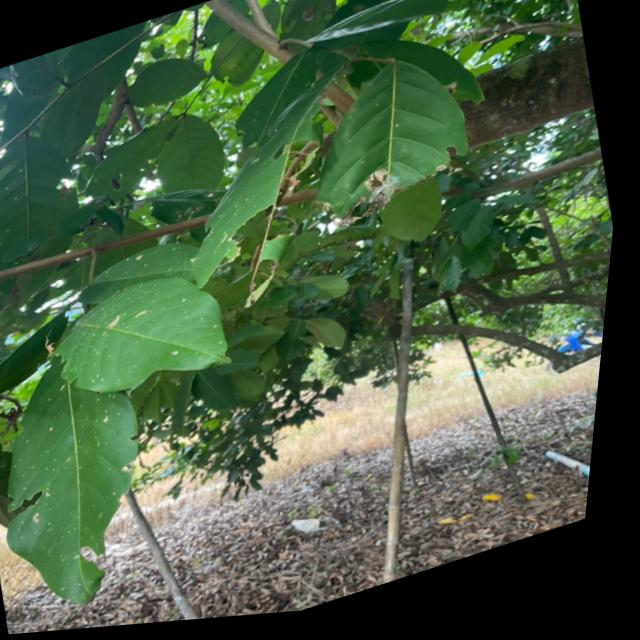Algal Leaf Spot: (0, 278, 285, 598)
